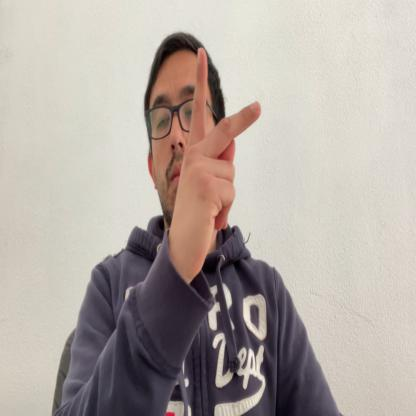P: (172, 43, 262, 294)
